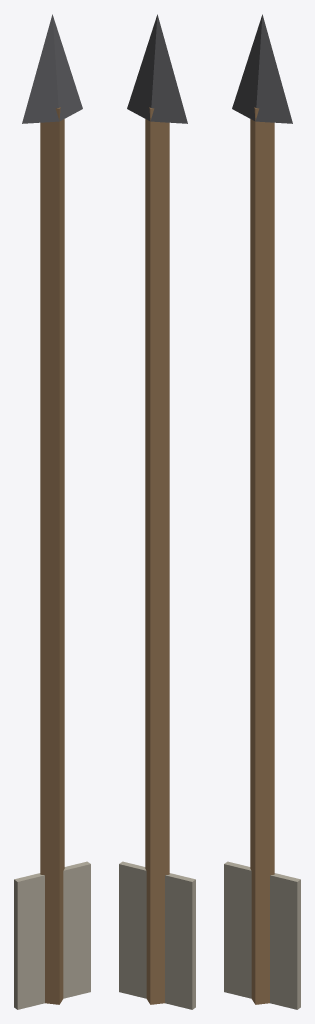
Rendered from a_arrow.glb.
The picture shows the model from 3 angles, left to right: view 1: azimuth 30°, elevation 25°; view 2: azimuth 150°, elevation 25°; view 3: azimuth 330°, elevation 25°; orthographic projection.
Visible parts, largest first — view 1: a_arrow; view 2: a_arrow; view 3: a_arrow.
Boxes of the visible parts, left/top/right/bottom form: a_arrow: left=14, top=14, right=90, bottom=1009; a_arrow: left=119, top=14, right=195, bottom=1009; a_arrow: left=224, top=14, right=300, bottom=1009.
Bounding box in the file's own units: 0.06 × 0.77 × 0.02.
